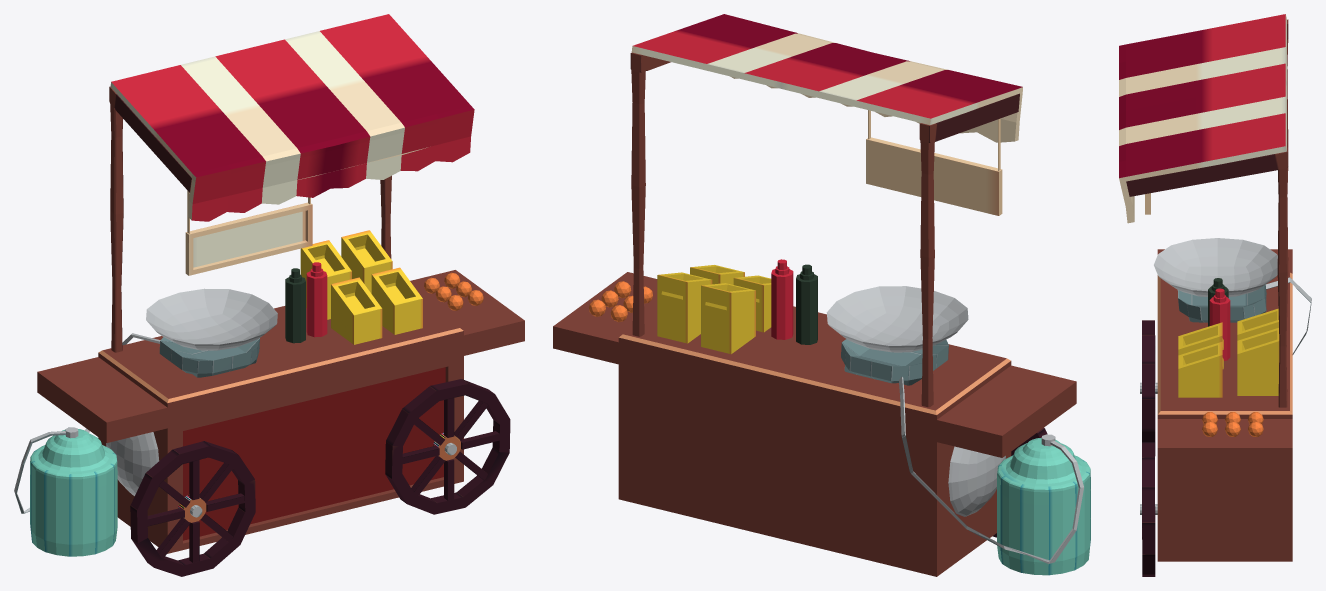
The model's file is StreetFoodV1.glb.
3 views of the same model, side by side, from view 1: azimuth 30°, elevation 25°; view 2: azimuth 150°, elevation 25°; view 3: azimuth 270°, elevation 25° (orthographic). The views are drawn at different scales.
Visible parts, largest first — view 1: Cube_Material_0; view 2: Cube_Material_0; view 3: Cube_Material_0.
Part boxes in pixels (bbox=[...]): Cube_Material_0: bbox=[14, 14, 524, 576]; Cube_Material_0: bbox=[553, 14, 1090, 576]; Cube_Material_0: bbox=[1119, 14, 1311, 576].
Size of the model in its own units: 3.42 by 3.11 by 1.27.
1 material, 1 textured.
